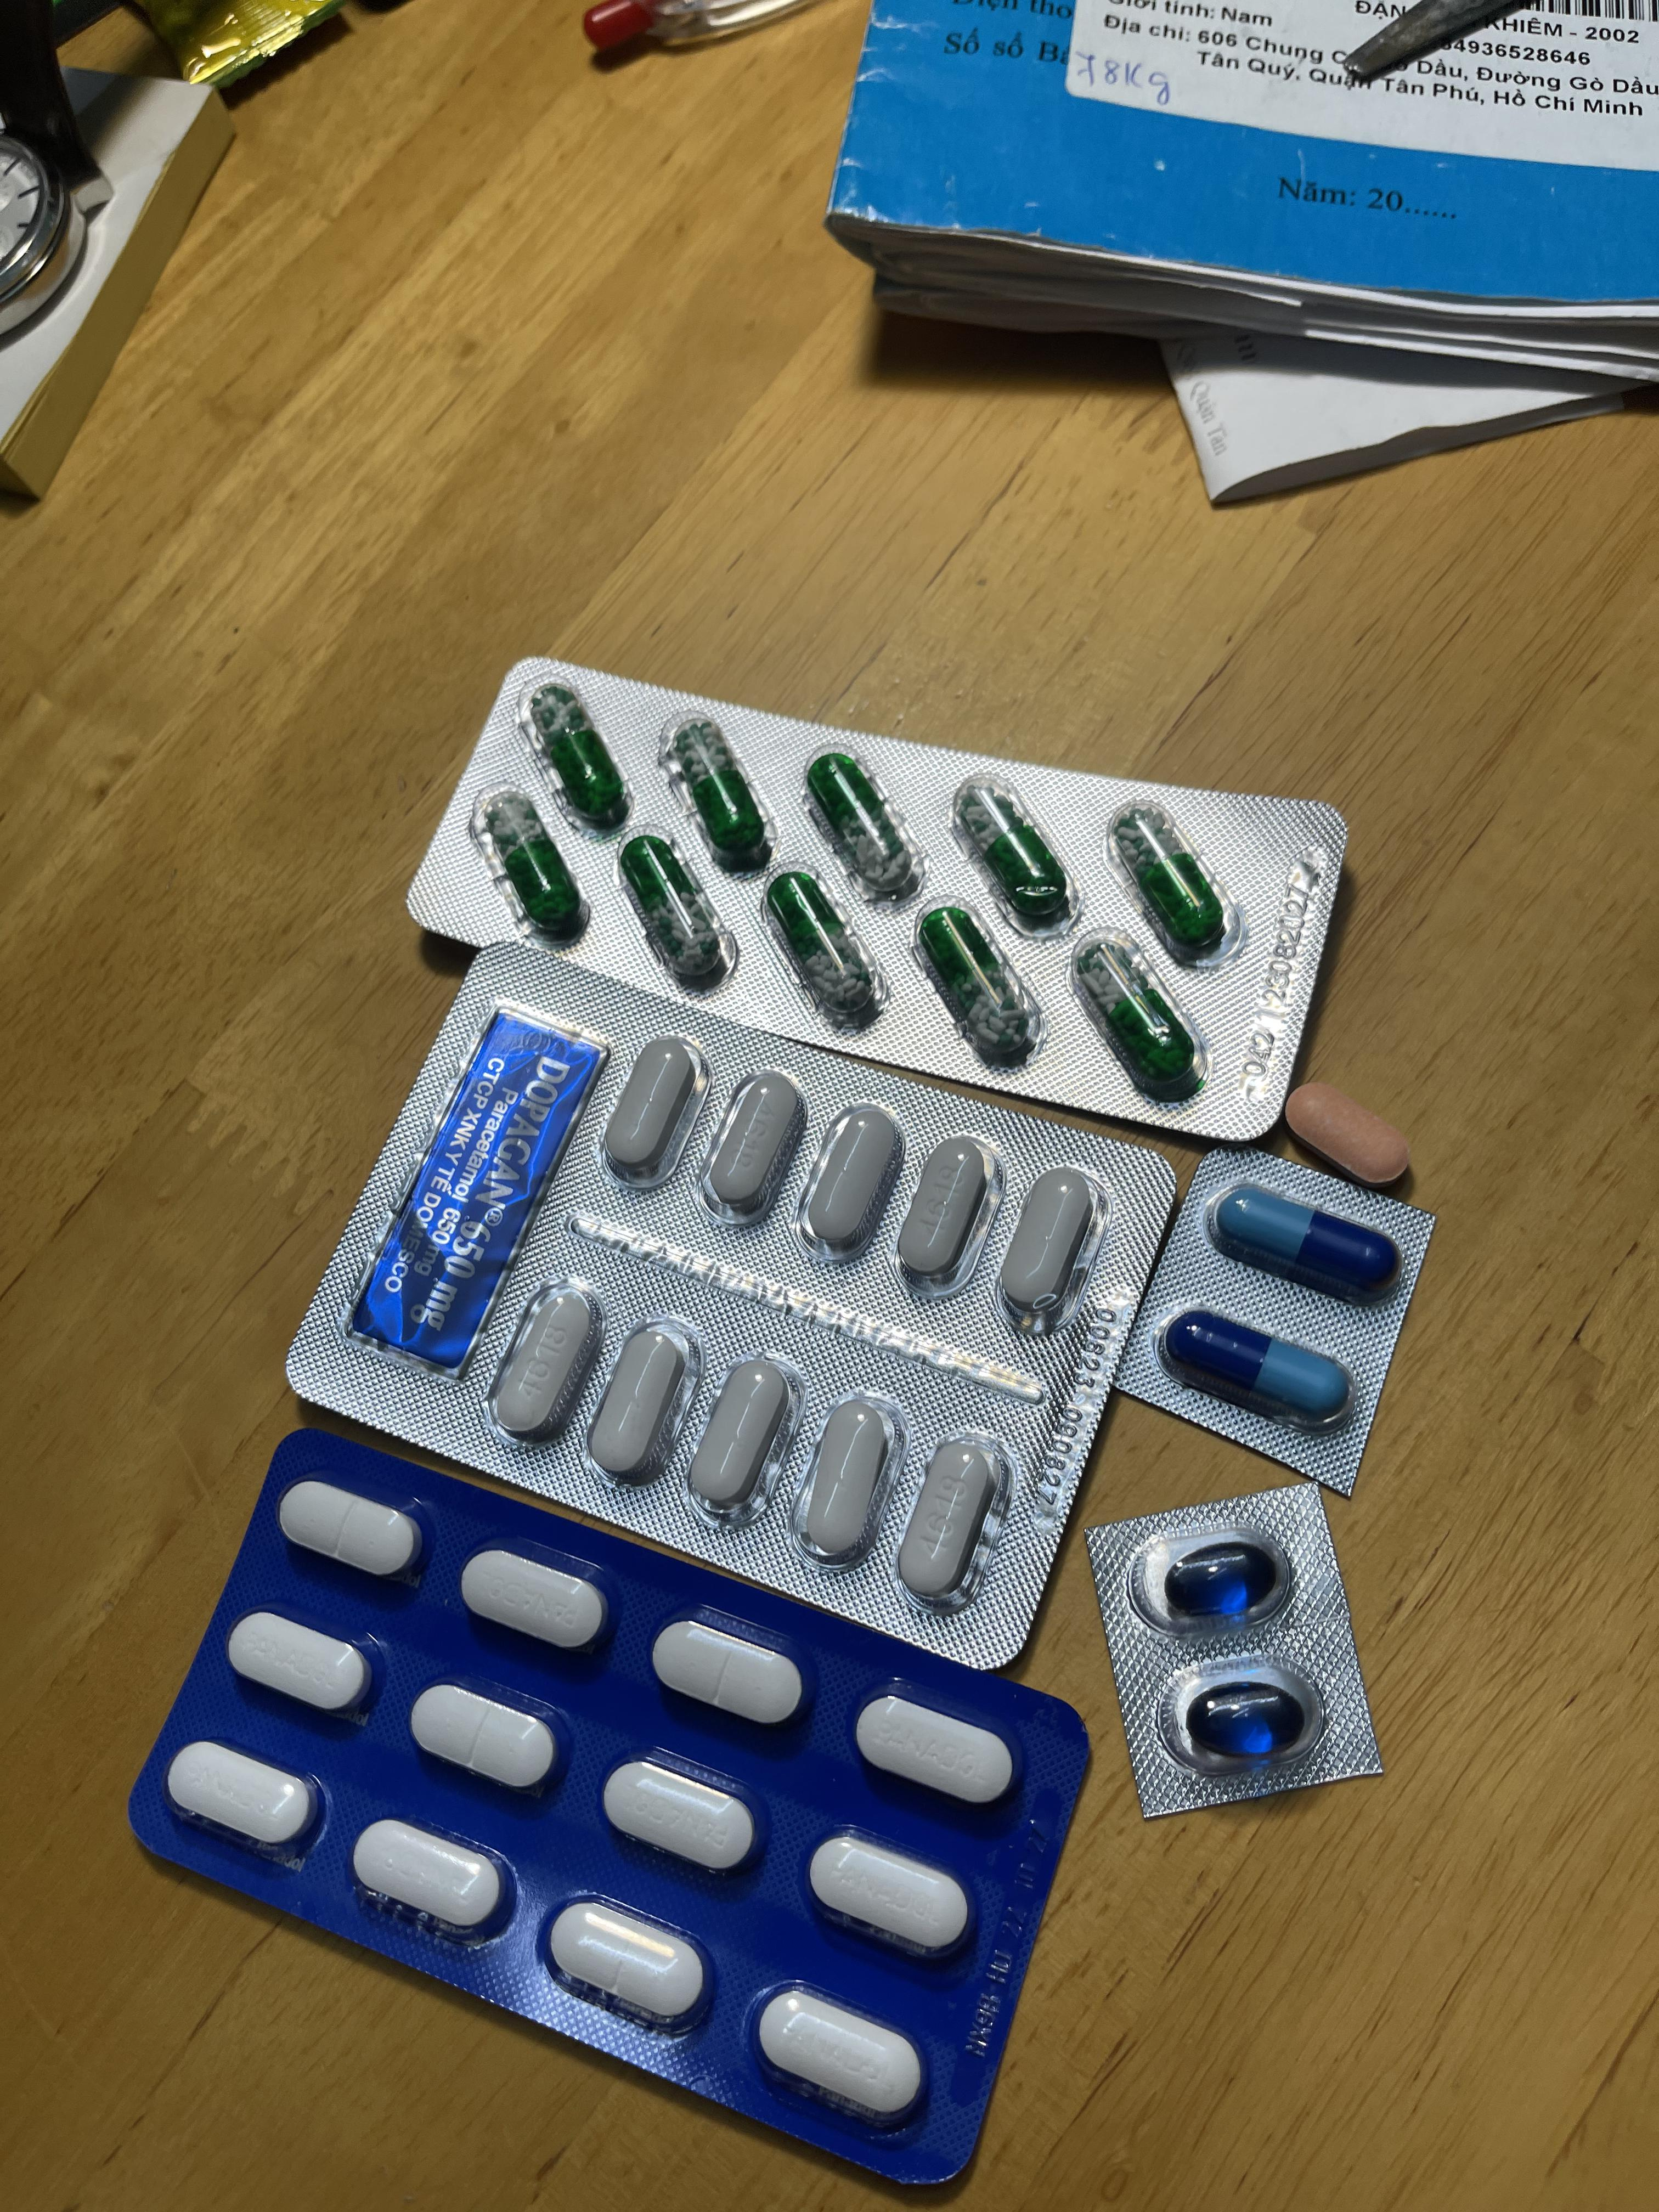Lincomyxin_500mg: (1183, 1681, 1304, 1759), (1161, 1540, 1274, 1620)
Loratadine_10mg: (1284, 1083, 1413, 1186)
Paracetamol_350mg: (755, 1986, 924, 2125), (544, 1898, 709, 2029), (807, 1831, 972, 1961), (601, 1754, 762, 1878), (854, 1689, 1018, 1808), (352, 1817, 509, 1937), (164, 1738, 319, 1855), (652, 1615, 809, 1728), (410, 1681, 561, 1796), (460, 1543, 613, 1651), (227, 1608, 375, 1719), (277, 1475, 427, 1580)
Paracetamol_500mg: (586, 1315, 709, 1491), (890, 1430, 1011, 1604), (680, 1352, 802, 1519), (483, 1277, 605, 1442), (789, 1392, 903, 1566), (789, 1096, 904, 1261), (992, 1163, 1101, 1329), (890, 1130, 1000, 1294), (697, 1068, 807, 1224), (594, 1033, 706, 1186)
Paracetamol_650mg: (1072, 932, 1206, 1097), (915, 900, 1040, 1064), (951, 772, 1075, 934), (471, 786, 591, 948), (657, 714, 777, 874), (763, 867, 882, 1026), (617, 831, 734, 991), (518, 681, 633, 836), (807, 752, 925, 900), (1117, 806, 1227, 954)
pill: (1169, 1308, 1349, 1421), (1216, 1190, 1394, 1291)
